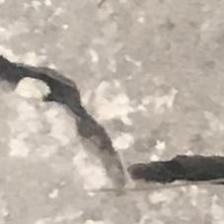Crack: (0, 54, 224, 197)
